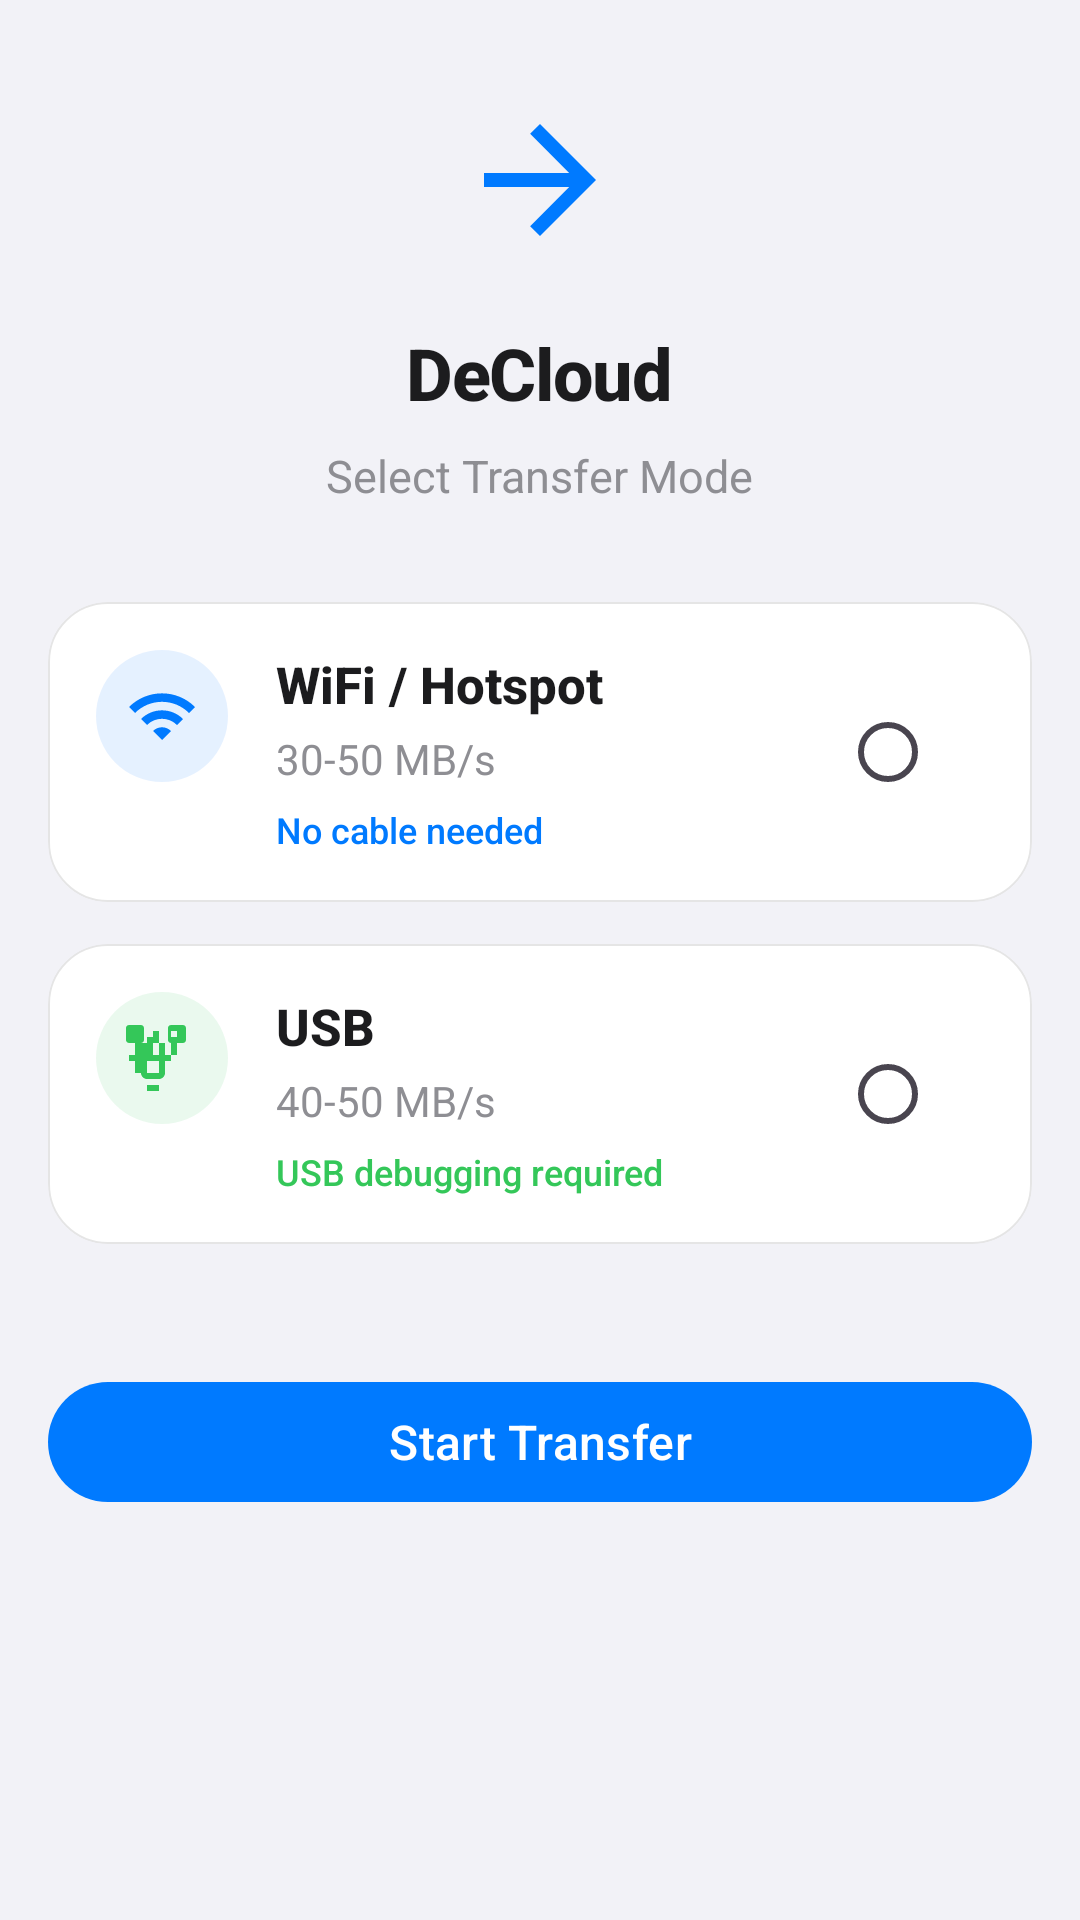

Point at icon controls on the screen. Image size 1080px×1920px, points as (x,y).
transfer: (540,180)
